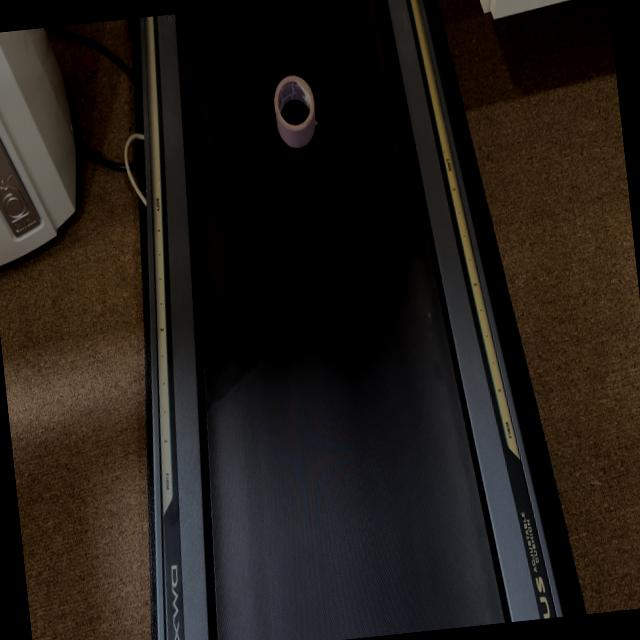Trash: (269, 70, 321, 151)
